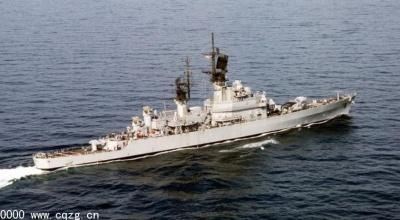warship: (33, 50, 360, 169)
